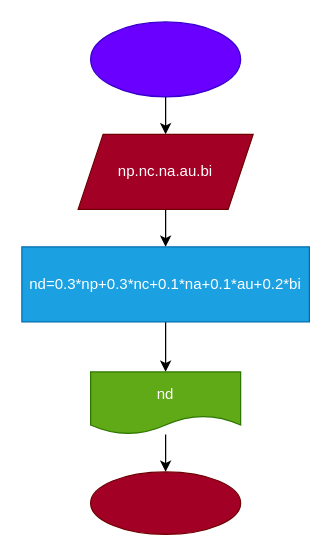
Image size: 331x556. Some labels were removed from this diagram. Each missing label, with the centre of its shape:
FIN: the point at 165,502
INICIO: the point at 165,59
